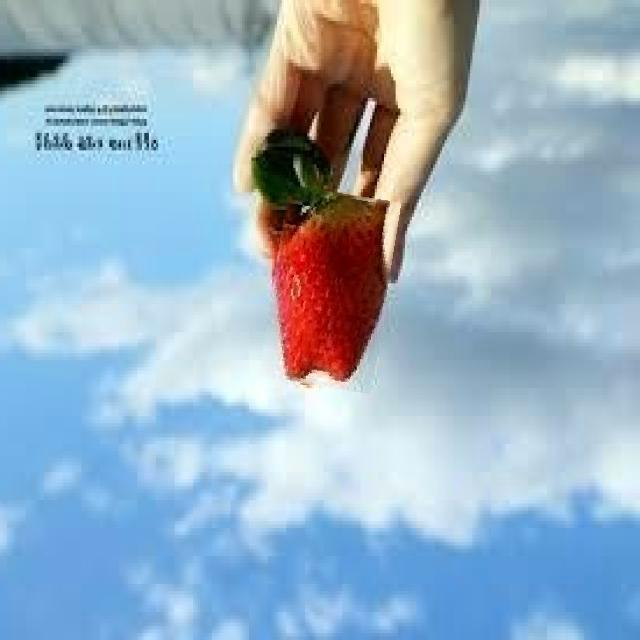strawberry: (266, 188, 394, 390)
